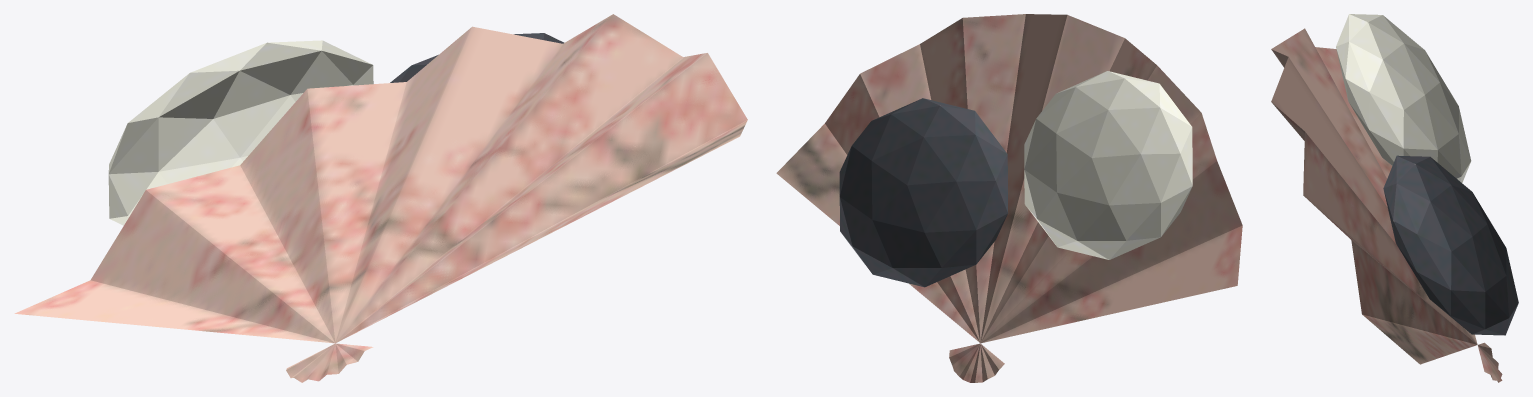
The model's file is icon1.ico.obj.
3 views of the same model, side by side, from view 1: azimuth 30°, elevation 25°; view 2: azimuth 150°, elevation 25°; view 3: azimuth 270°, elevation 25° (orthographic). The views are drawn at different scales.
Size of the model in its own units: 4.29 by 2.64 by 1.84.
1 material, 1 textured.
